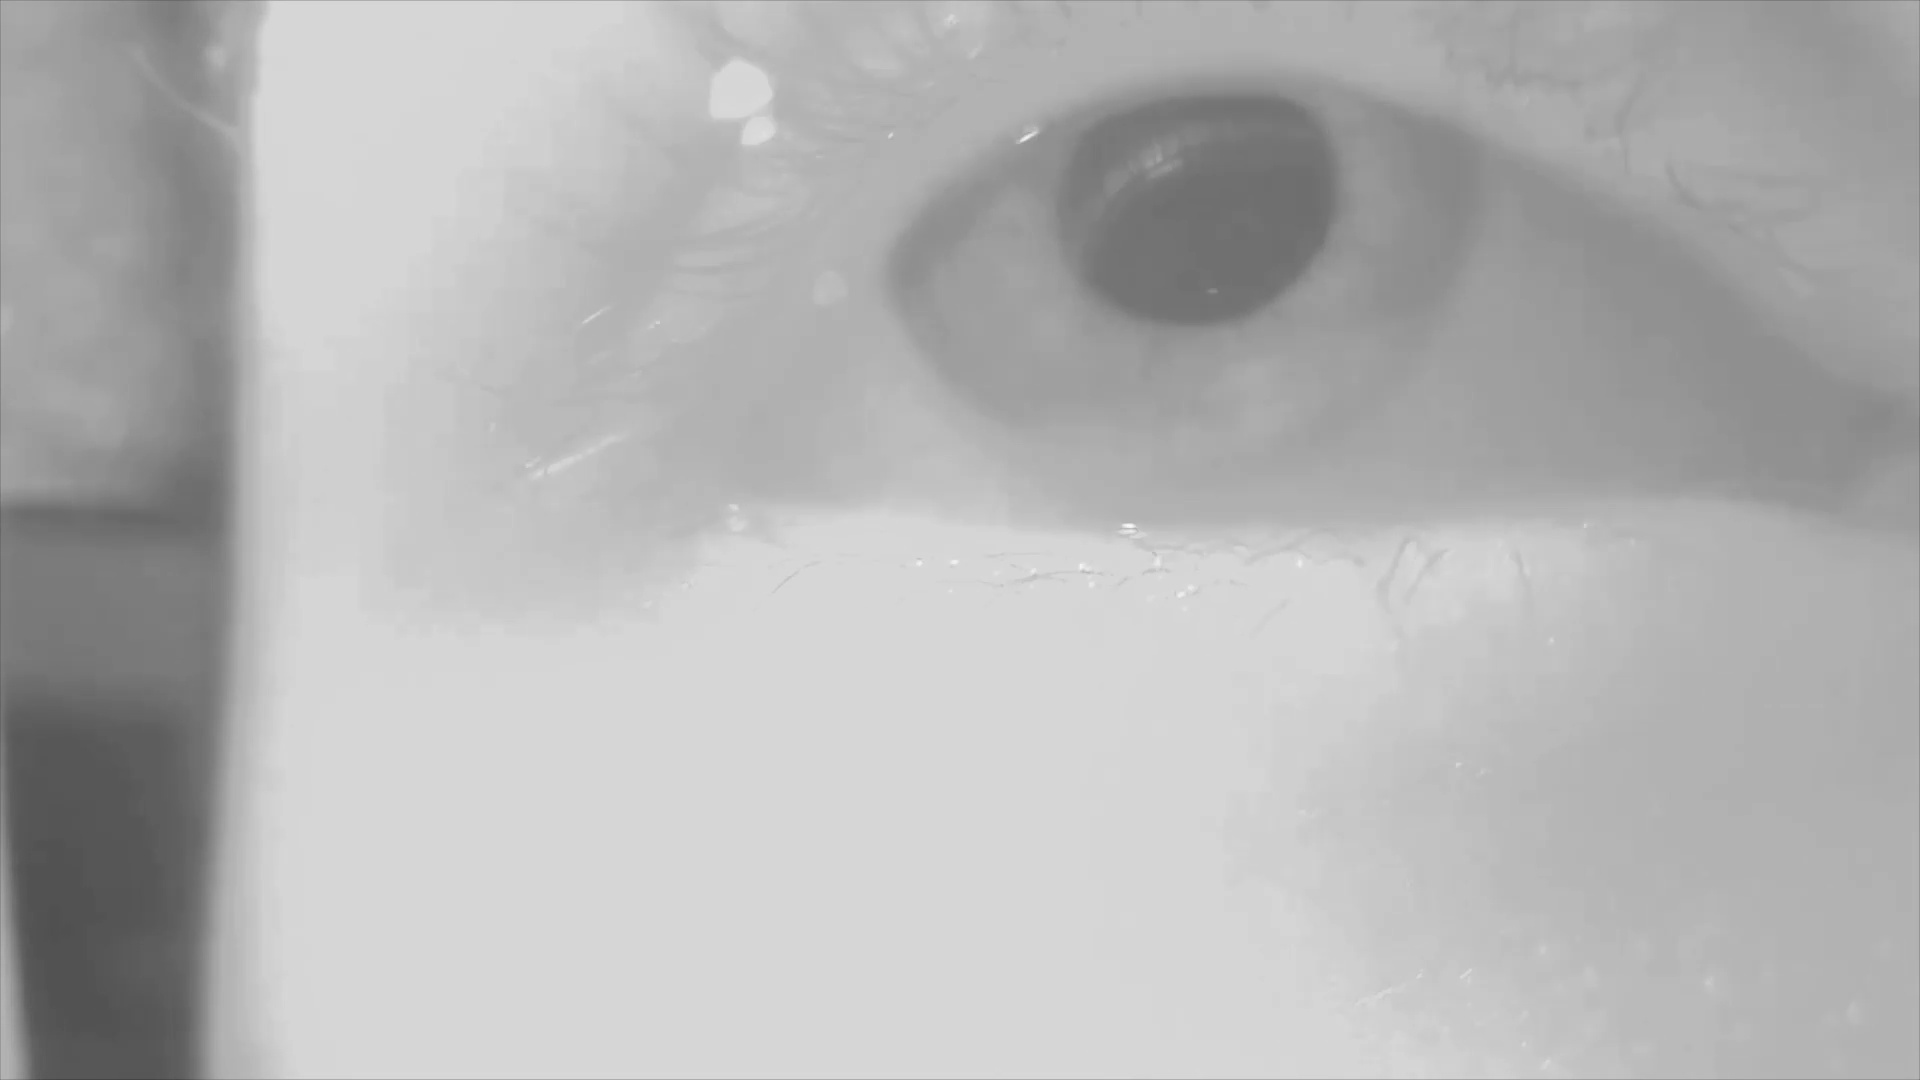pupil: (1063, 93, 1337, 327)
